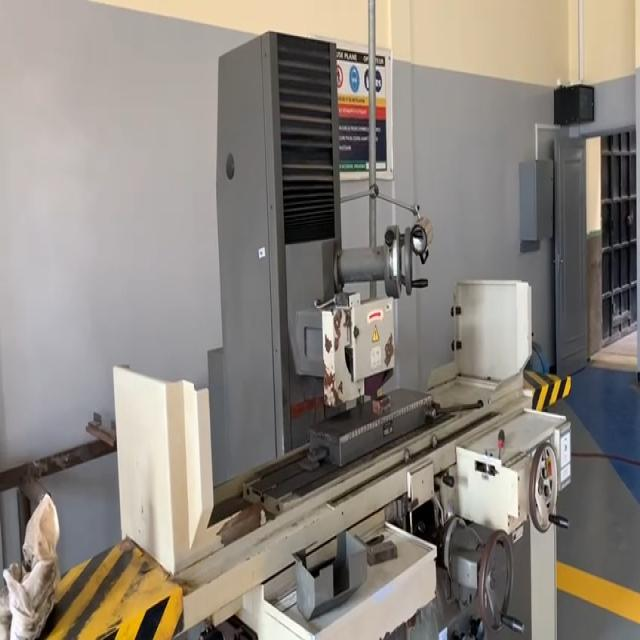fraiseuse: (46, 33, 571, 638)
